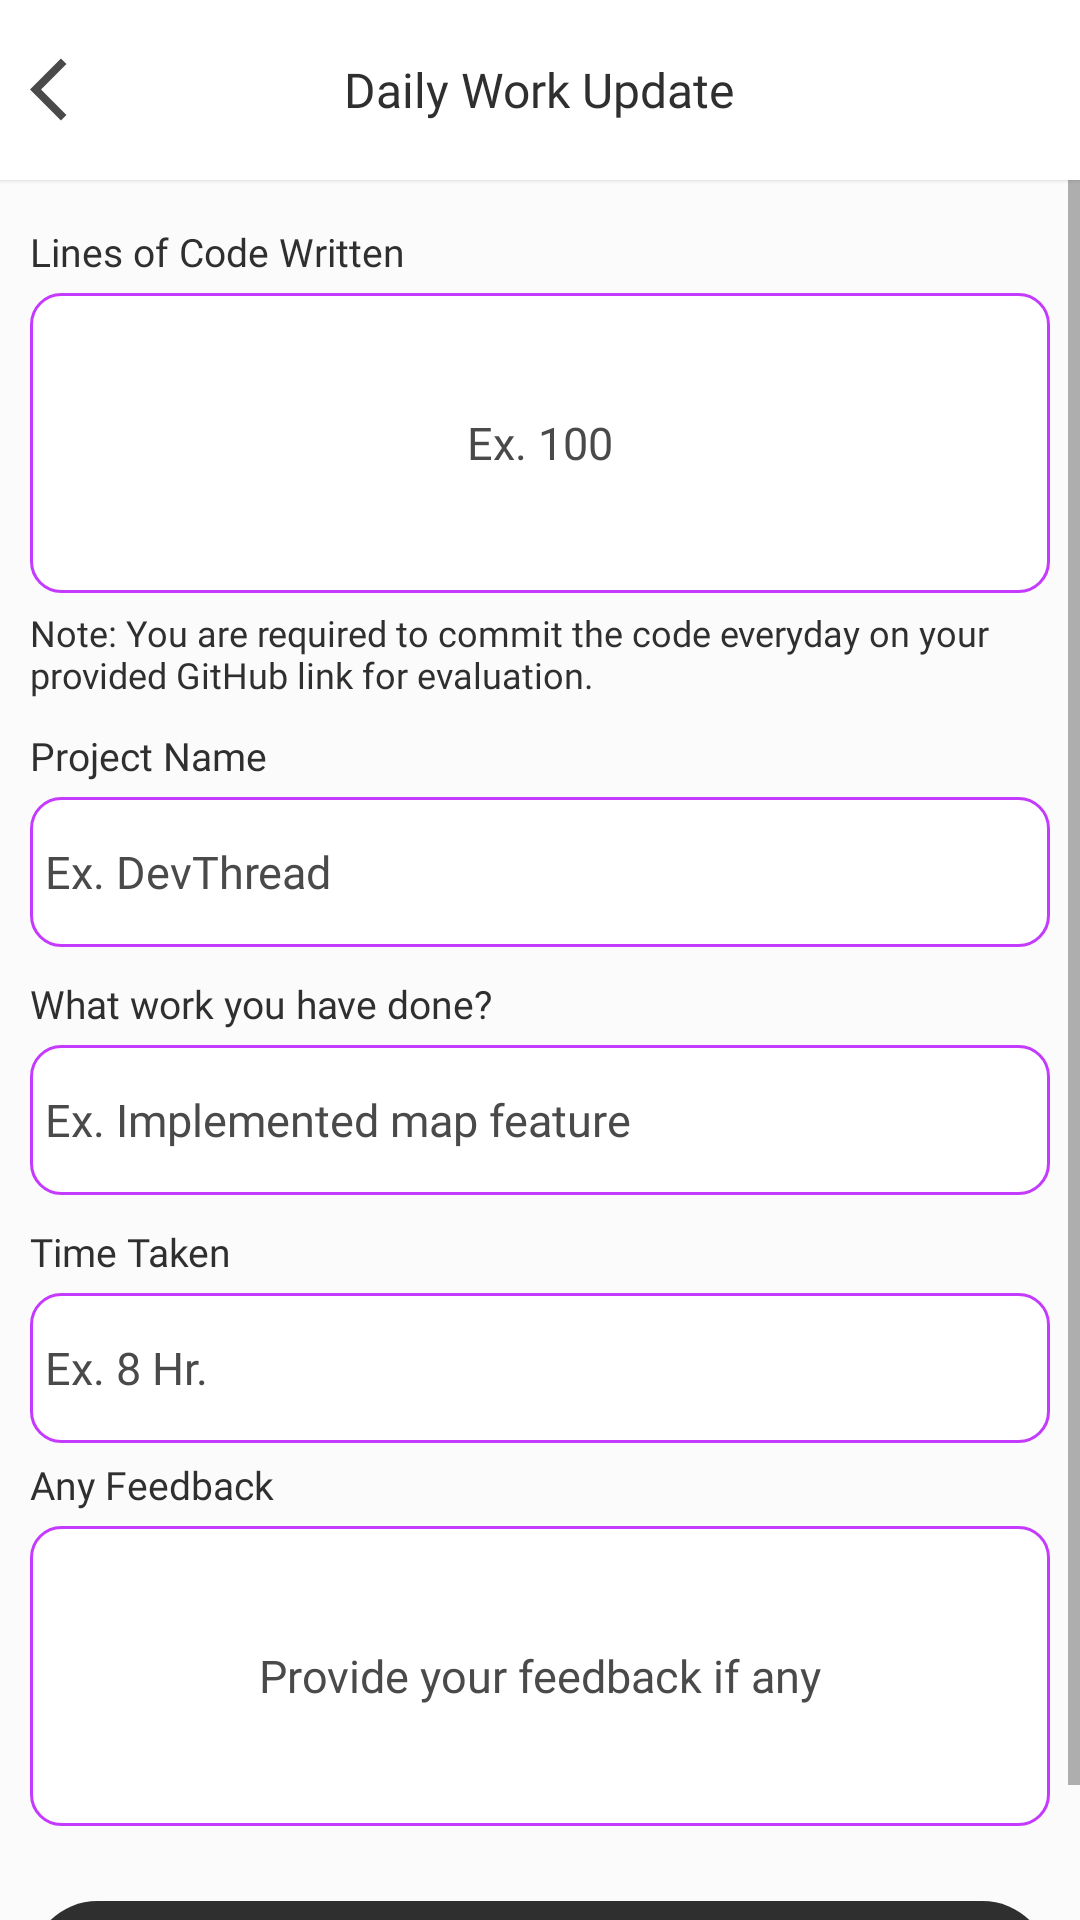

Locate icon controls on the screen. Image size 1080*1920, boxes as (x1, y1, x2, y2).
arrow back: (30, 58, 66, 121)
